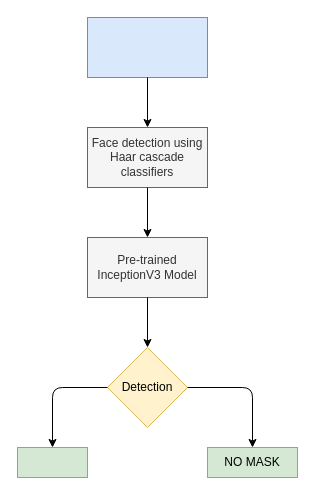
Image size: 315x495. Some labels were removed from this diagram. Here are the shapes that lost their labels. From the top down, the box of each, then its label:
(86, 16, 208, 78): Image capture using camera
(16, 446, 88, 478): MASK
